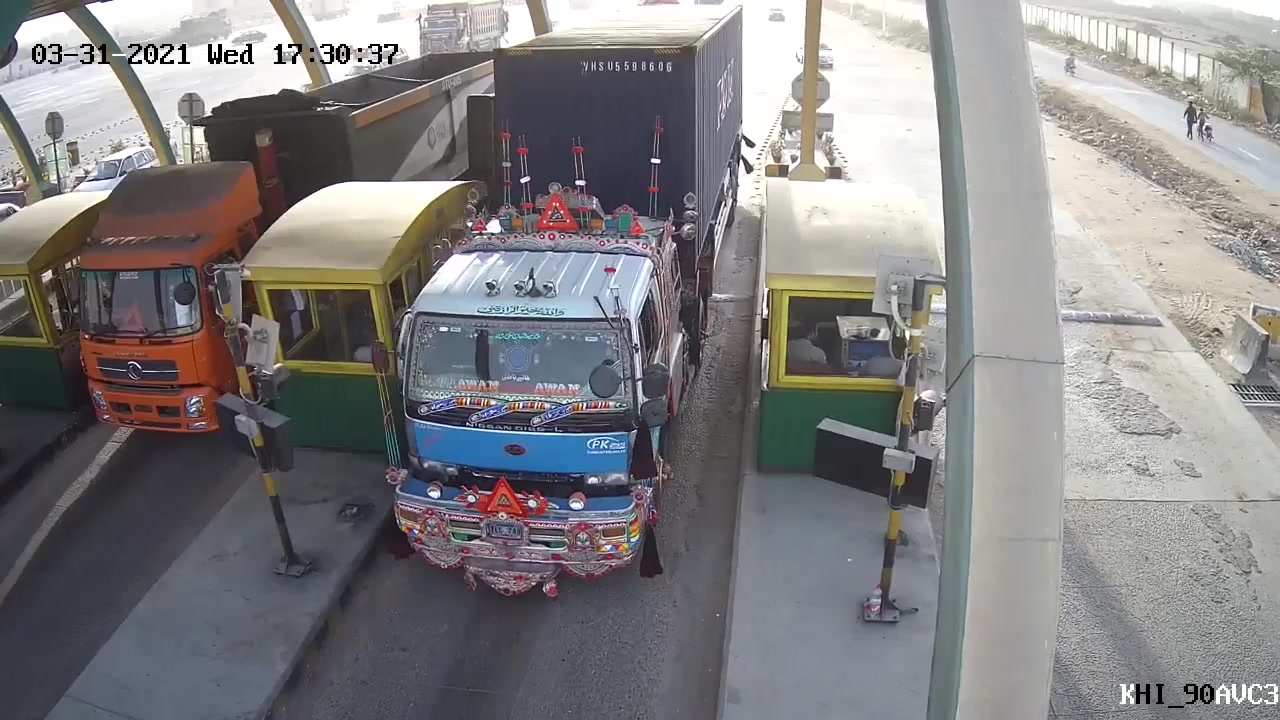F6: (364, 44, 712, 621)
